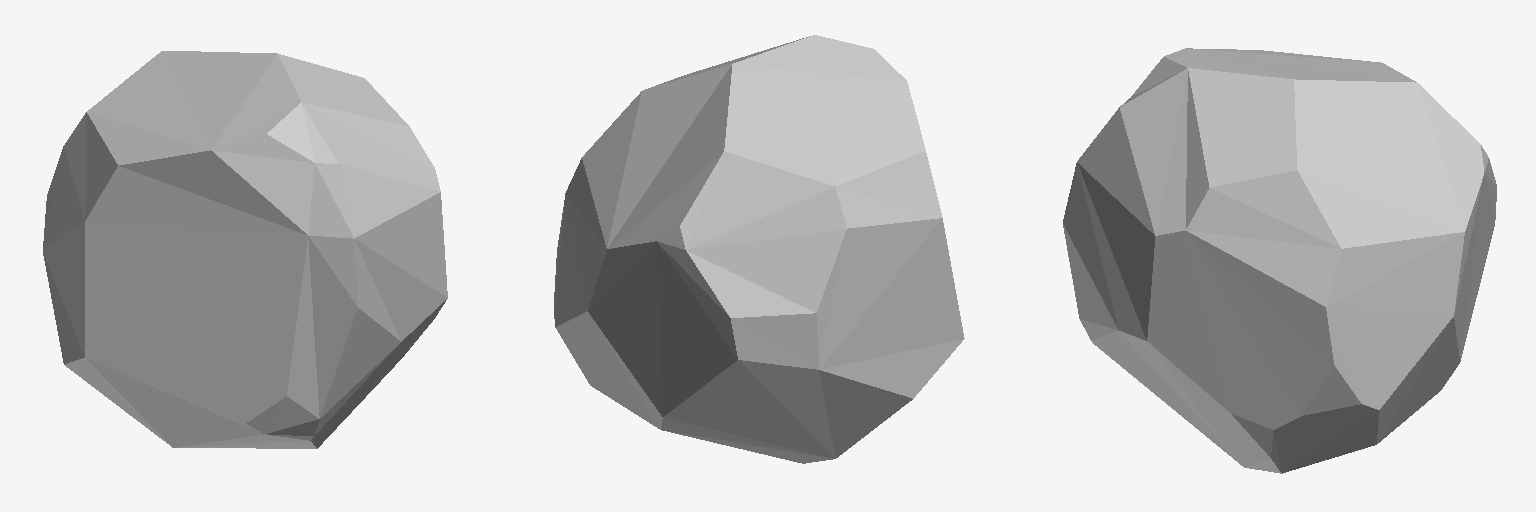
Rendered from Rock_9.obj.
3 renders of one model, left to right at view 1: azimuth 30°, elevation 25°; view 2: azimuth 150°, elevation 25°; view 3: azimuth 270°, elevation 25°, orthographic.
Parts seen in each view (by area): view 1: Sphere.017_Sphere.022; view 2: Sphere.017_Sphere.022; view 3: Sphere.017_Sphere.022.
Part boxes in pixels (x1,y1,x2,y2): Sphere.017_Sphere.022: (43,51,447,448); Sphere.017_Sphere.022: (554,35,964,463); Sphere.017_Sphere.022: (1063,48,1496,473).
Size of the model in its own units: 1.65 by 1.63 by 1.69.